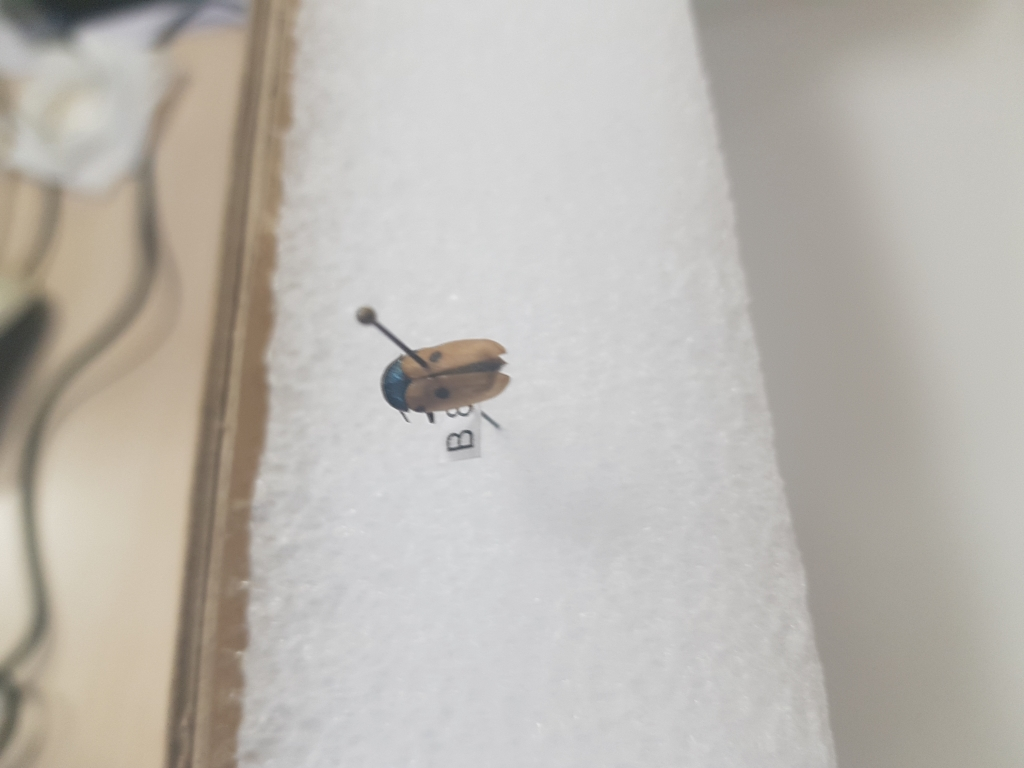Labidostomis_maculipennis: (365, 336, 512, 421)
